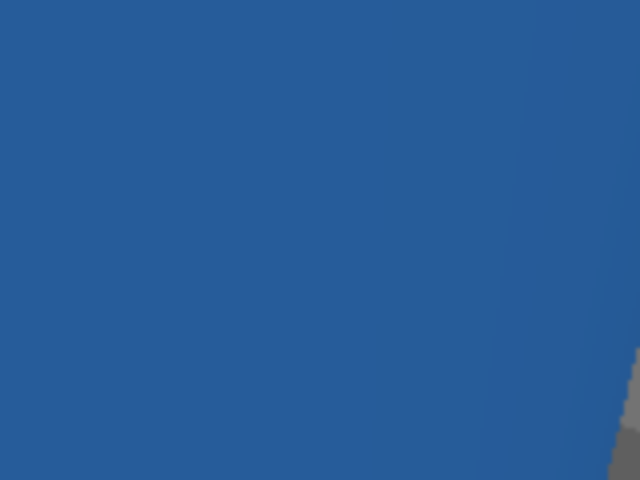obstacle: (564, 184, 638, 249), (195, 142, 235, 187)
puck: (224, 237, 247, 258), (347, 184, 367, 202), (268, 193, 286, 209)
